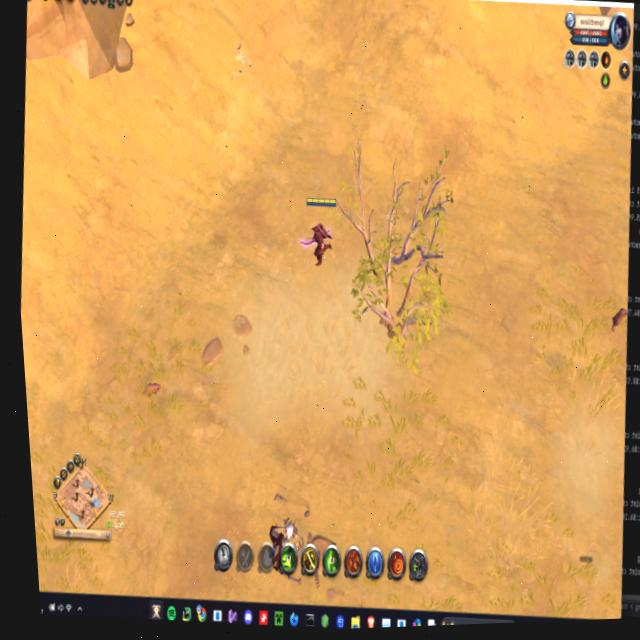ore: (258, 517, 306, 578)
red: (295, 191, 342, 274)
